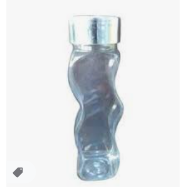Bottle: (68, 15, 124, 180)
